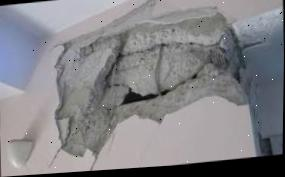spalling: (53, 0, 249, 158)
